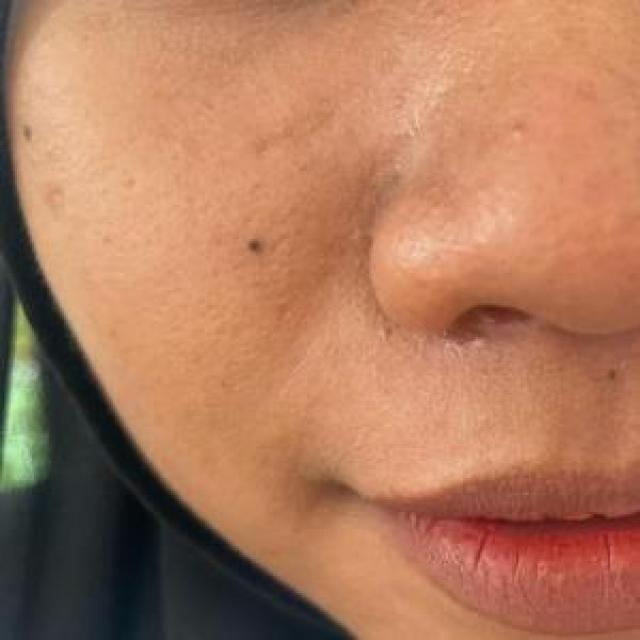Oily-Skin: (313, 0, 640, 201)
